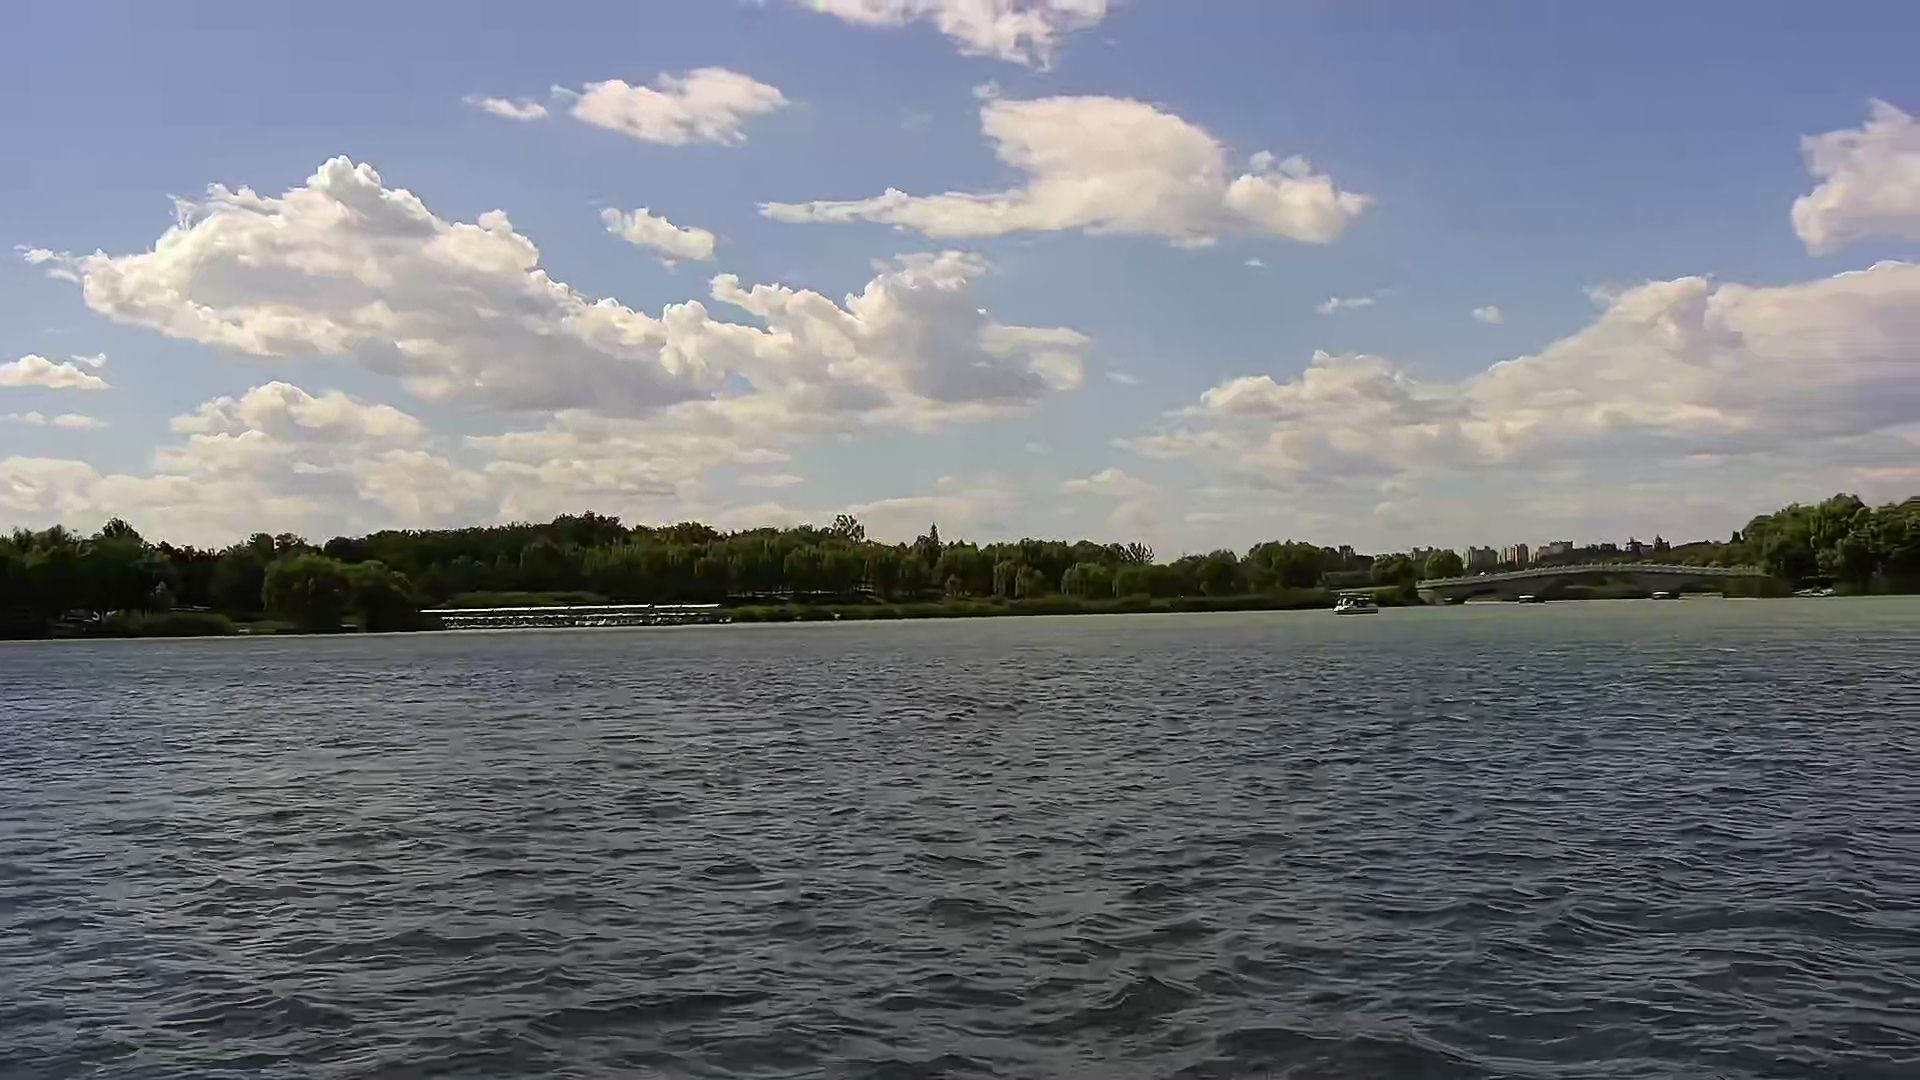boat: (1333, 592, 1381, 617)
bridge: (1410, 559, 1776, 603), (429, 607, 721, 625)
